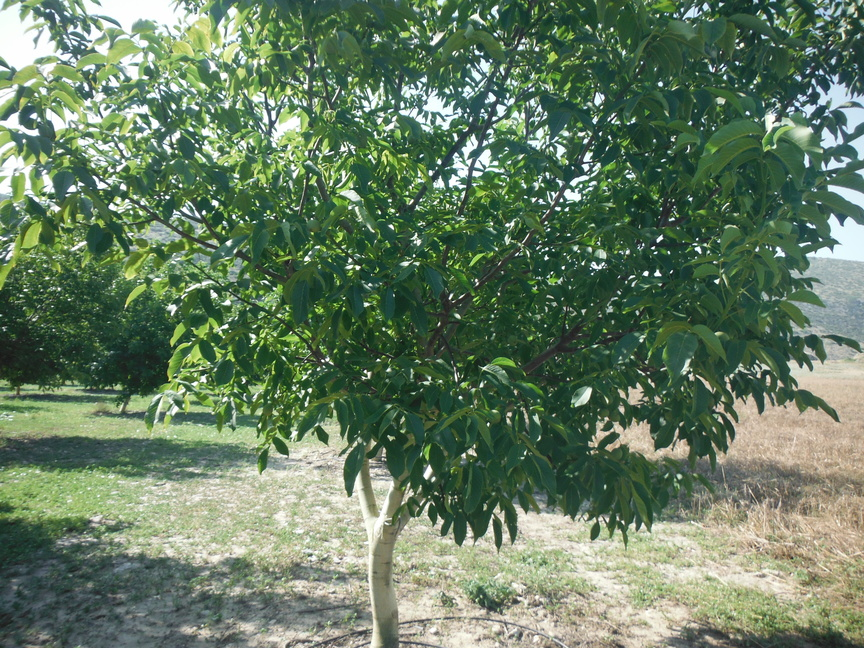walnut: (708, 326, 735, 353), (301, 215, 325, 237), (483, 405, 505, 427), (766, 269, 784, 294), (367, 393, 387, 415), (607, 443, 629, 463), (353, 129, 371, 153), (36, 121, 55, 141), (505, 331, 524, 350), (574, 255, 592, 275), (703, 391, 717, 415), (562, 264, 580, 280), (405, 129, 420, 148), (603, 389, 617, 408), (212, 138, 226, 156), (609, 411, 624, 427), (379, 243, 393, 258), (595, 405, 610, 419), (370, 238, 383, 253), (222, 143, 234, 159)
